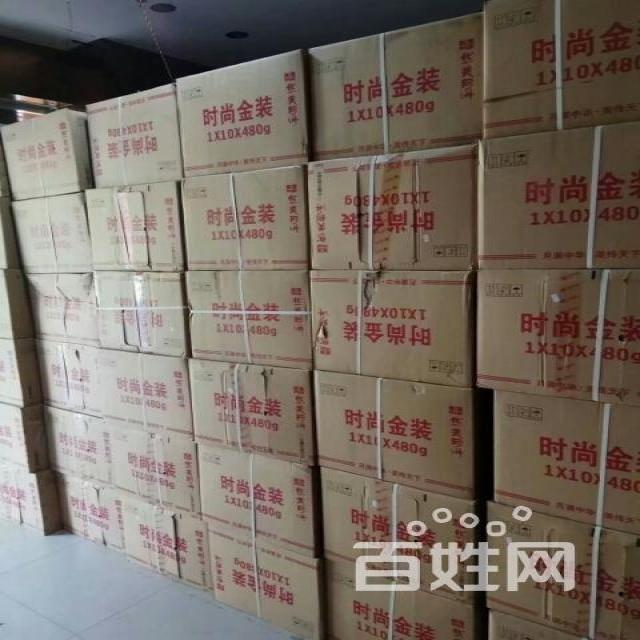box: (310, 12, 483, 157), (475, 120, 639, 269), (475, 267, 639, 412), (305, 139, 479, 269), (477, 2, 639, 141), (320, 464, 479, 604), (482, 499, 638, 639), (492, 389, 639, 536), (314, 368, 475, 498), (310, 266, 476, 389), (173, 48, 315, 176), (193, 436, 321, 559), (184, 357, 320, 467), (202, 523, 321, 639), (319, 557, 484, 639), (183, 162, 309, 268), (185, 266, 311, 370), (91, 486, 209, 592), (93, 421, 202, 520), (87, 83, 184, 186), (87, 183, 185, 274), (95, 347, 193, 436), (1, 109, 95, 200), (94, 271, 188, 357), (9, 188, 97, 274), (19, 275, 97, 346), (0, 459, 66, 535), (39, 339, 96, 418), (45, 401, 96, 484), (482, 602, 589, 638), (0, 399, 49, 470), (1, 334, 46, 407), (50, 468, 95, 539), (0, 264, 34, 337), (0, 202, 19, 268), (3, 124, 16, 201)
